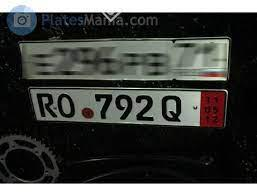2: (133, 93, 155, 121)
7: (93, 92, 114, 120)
9: (114, 93, 134, 121)
O: (57, 92, 76, 118)
Q: (161, 94, 182, 123)
R: (36, 92, 58, 118)
